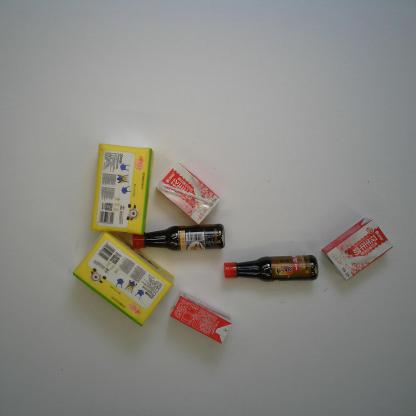Milk: (320, 215, 394, 282), (155, 162, 221, 226), (169, 290, 232, 345)
Seasoner: (131, 222, 226, 252), (223, 254, 319, 283)
Tissue: (71, 229, 175, 328), (90, 143, 155, 236)
